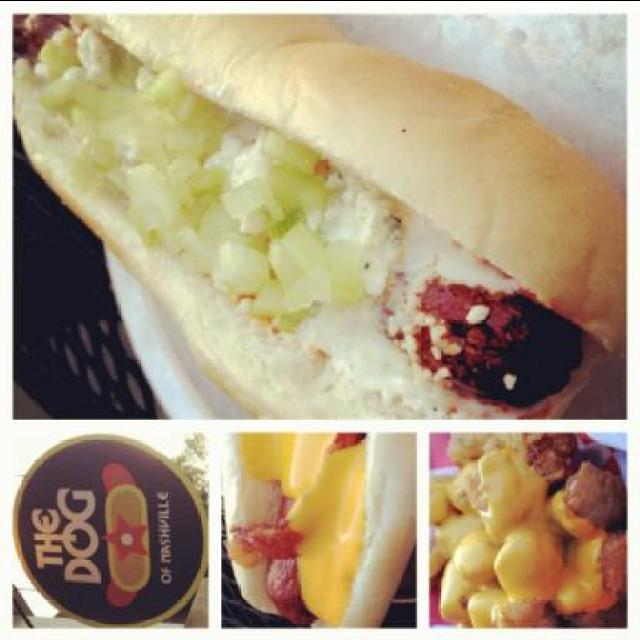Hot dog: (0, 7, 626, 430), (220, 432, 416, 628)
